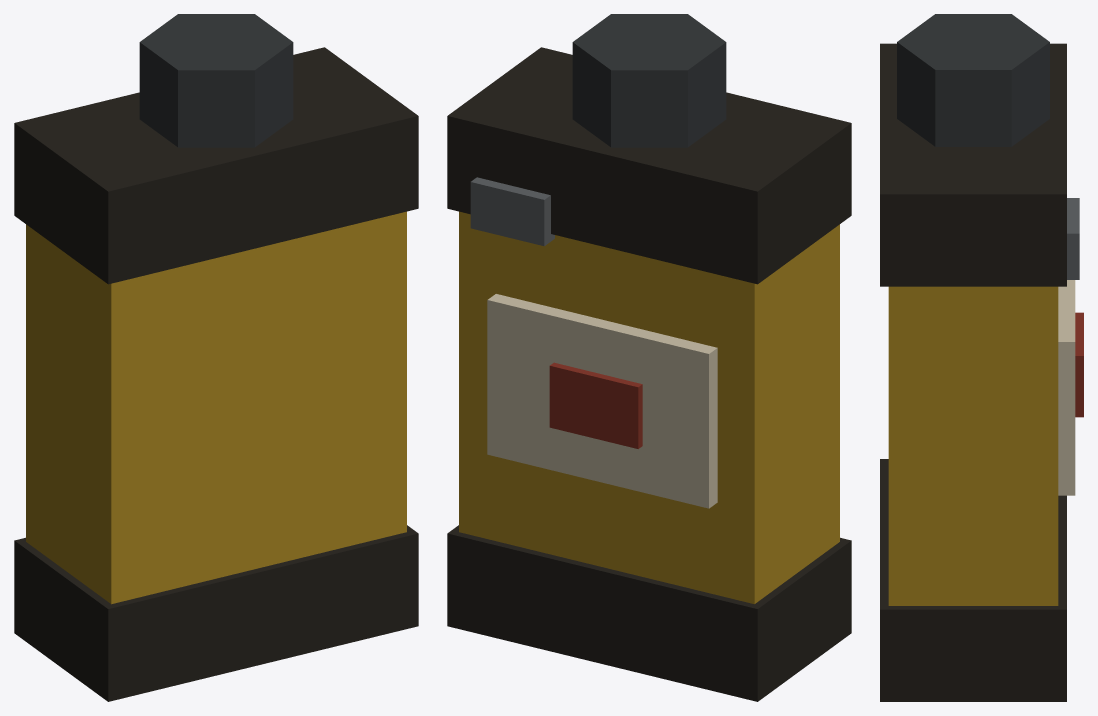
Rendered from tool_walkie_battery.glb.
3 views of the same model, side by side, from view 1: azimuth 30°, elevation 25°; view 2: azimuth 150°, elevation 25°; view 3: azimuth 270°, elevation 25° (orthographic).
Visible parts, largest first — view 1: Battery; view 2: Battery; view 3: Battery.
Part boxes in pixels (x1,y1,x2,y2): Battery: (14,14,418,701); Battery: (447,14,851,701); Battery: (880,14,1083,701).
Size of the model in its own units: 0.042 by 0.076 by 0.024.
